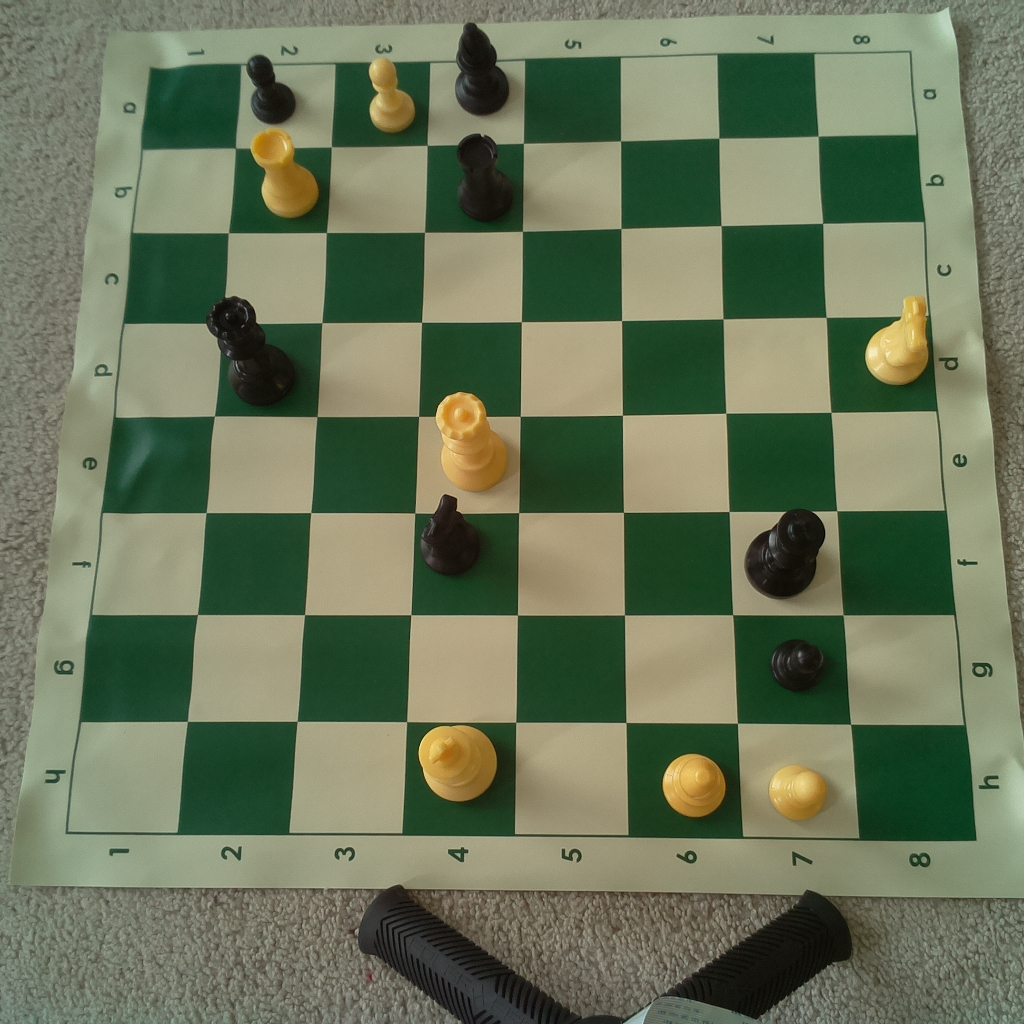black_bishop: (445, 23, 511, 113)
black_king: (742, 502, 828, 604)
black_knight: (410, 491, 485, 579)
black_pawn: (240, 47, 298, 125), (770, 628, 827, 696)
black_queen: (202, 293, 301, 406)
black_rook: (449, 130, 519, 227)
file_a: (144, 51, 919, 152)
file_b: (132, 136, 925, 234)
file_c: (124, 223, 927, 323)
file_d: (114, 317, 936, 418)
file_e: (102, 412, 946, 513)
file_f: (92, 509, 958, 617)
file_g: (76, 615, 966, 726)
file_h: (67, 719, 976, 840)
outline: (67, 52, 973, 838)
rank_1: (66, 64, 244, 834)
rank_2: (176, 65, 336, 835)
rank_3: (286, 62, 433, 835)
rank_4: (399, 64, 524, 838)
rank_5: (512, 60, 629, 835)
rank_6: (619, 54, 742, 838)
rank_7: (718, 56, 863, 838)
rank_8: (815, 52, 977, 840)
white_bishop: (660, 749, 731, 823)
white_king: (414, 718, 499, 801)
white_knight: (860, 291, 932, 388)
white_pawn: (363, 52, 419, 134), (770, 758, 831, 822)
white_queen: (431, 387, 510, 492)
white_rook: (242, 123, 321, 219)
